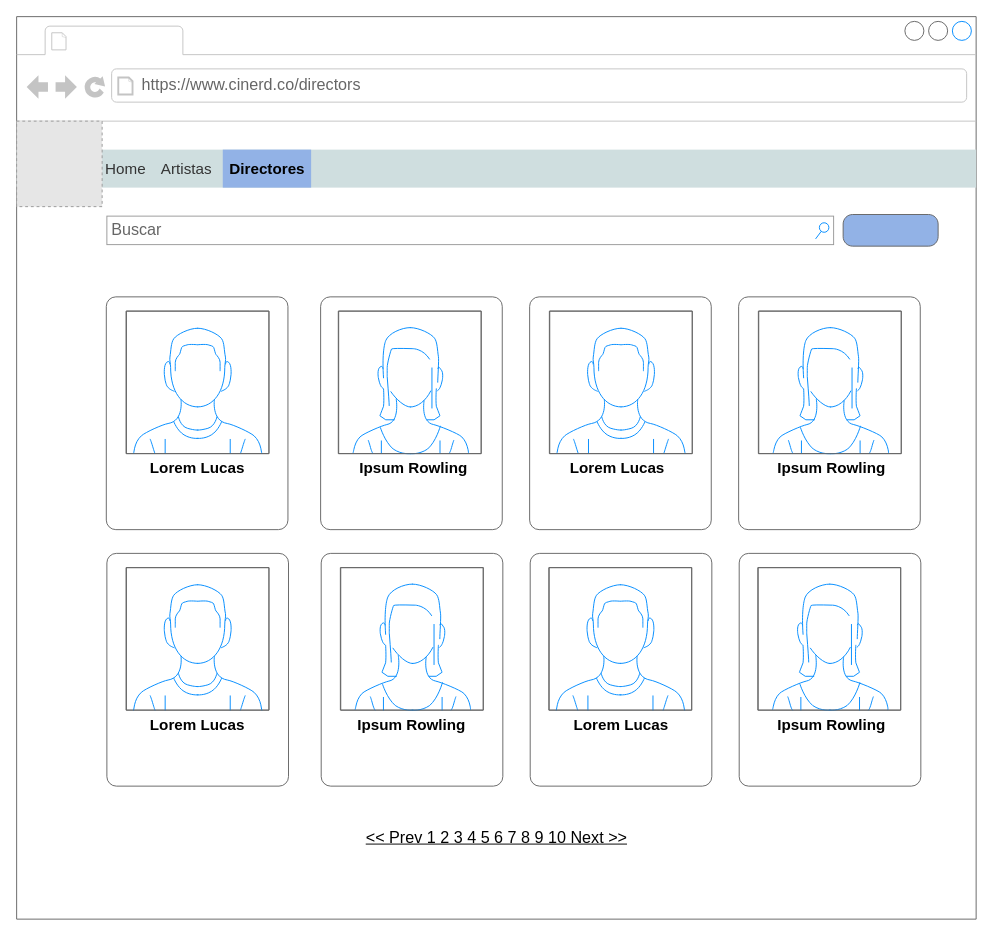
Image size: 993x936. Some labels were removed from this diagram. Grey dashed boxes stand in for pictures. Here are the shapes that lost their labels. From the top down, the centre of each, then its label:
At [125,40]: "cinerd".
At [890,230]: "Filtrar".
